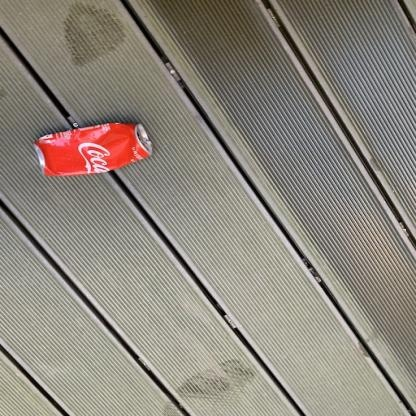trash: (34, 123, 151, 175)
